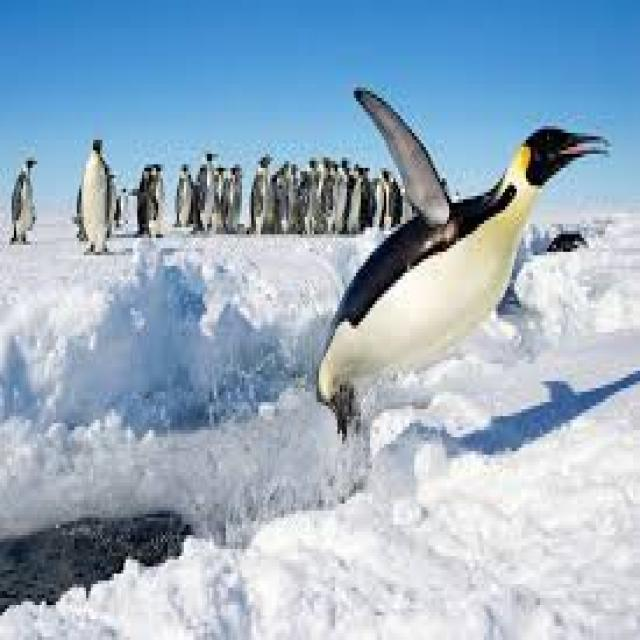penguin: (317, 87, 605, 434)
